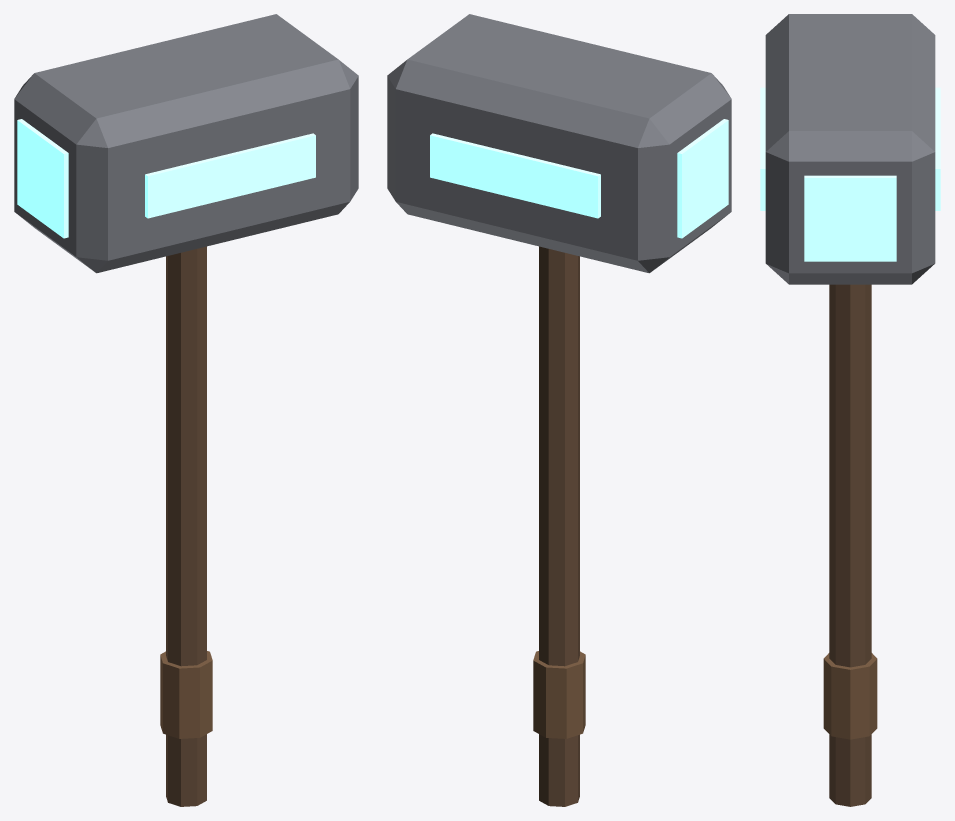
File: w_hammer.glb
3 renders of one model, left to right at view 1: azimuth 30°, elevation 25°; view 2: azimuth 150°, elevation 25°; view 3: azimuth 270°, elevation 25°, orthographic.
Visible parts, largest first — view 1: w_hammer; view 2: w_hammer; view 3: w_hammer.
Boxes of the visible parts, left/top/right/bottom form: w_hammer: left=14, top=14, right=358, bottom=806; w_hammer: left=387, top=14, right=731, bottom=806; w_hammer: left=760, top=14, right=940, bottom=806.
Size of the model in its own units: 0.434 by 1.04 by 0.234.
